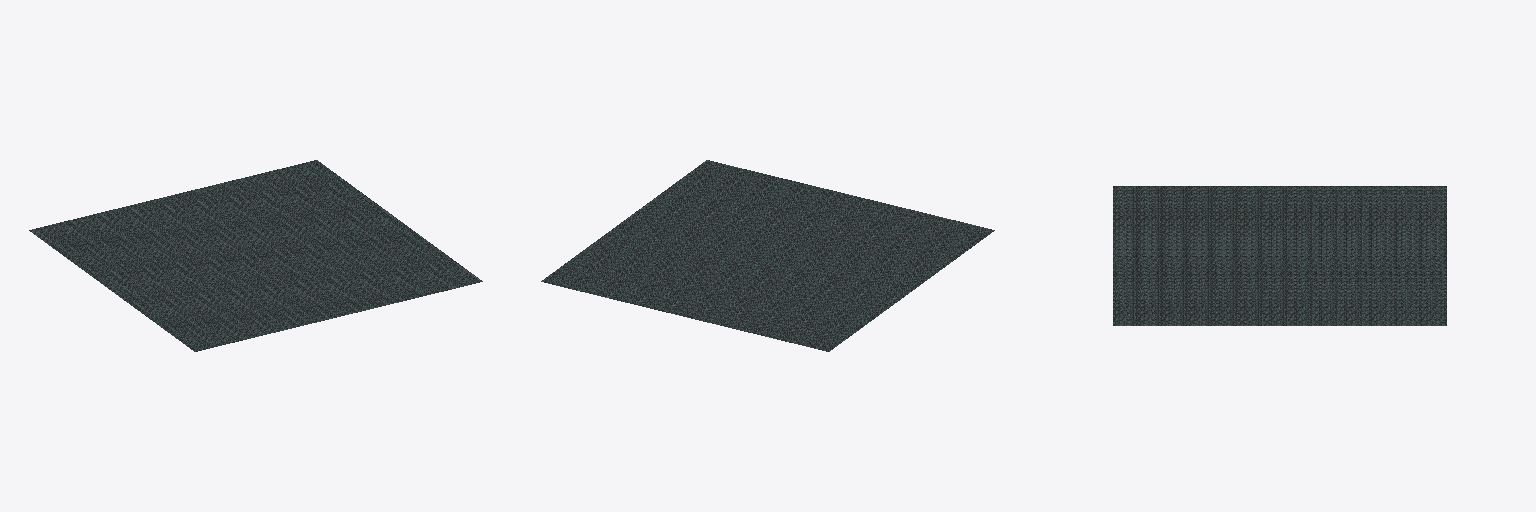
3 views of the same model, side by side, from view 1: azimuth 30°, elevation 25°; view 2: azimuth 150°, elevation 25°; view 3: azimuth 270°, elevation 25° (orthographic).
Visible parts, largest first — view 1: Plane; view 2: Plane; view 3: Plane.
Part boxes in pixels (left/top/right/bottom): Plane: left=29, top=160, right=482, bottom=351; Plane: left=541, top=160, right=994, bottom=351; Plane: left=1113, top=186, right=1446, bottom=325.
Size of the model in its own units: 1000 by 0 by 1000.
1 materials, 1 textured.